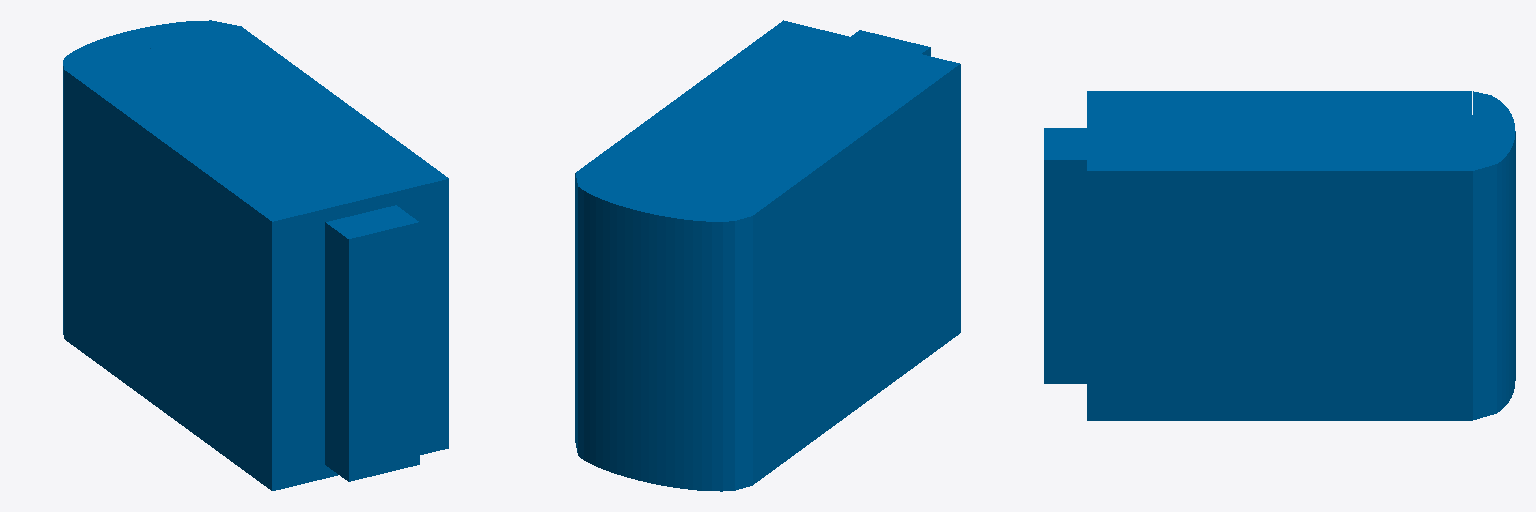
robot.urdf — 3v3_42.5.32.5.25.0_35.0.37.5.27.5_0.975.1_63:
<?xml version="1.0" ?>
<robot name="3v3_42.5.32.5.25.0_35.0.37.5.27.5_0.975.1_63">

    <link name="palm">
        <visual>
            <origin rpy="0 0 0" xyz="0 0 0"/>
            <geometry>
                <mesh filename="obj_files/palm.obj" scale="1 1 1"/>
            </geometry>
        </visual>
        <collision>
            <geometry>
                <mesh filename="obj_files/palm_collision.obj" scale="1 1 1"/>
            </geometry>
        </collision>
    </link>

    <link name="finger0_segment0">
        <visual>
            <origin rpy="0 0 0" xyz="0 0 0"/>
            <geometry>
                <mesh filename="obj_files/finger0_segment0.obj" scale="1 1 1"/>
            </geometry>
        </visual>
        <collision>
            <geometry>
                <mesh filename="obj_files/finger0_segment0_collision.obj" scale="1 1 1"/>
            </geometry>
        </collision>
    </link>

    <joint name="finger0_segment0_joint" type="revolute">
        <parent link="palm"/>
        <child link="finger0_segment0"/>
        <origin rpy="0 0 0" xyz="0.0315 0 0.0"/>
        <axis xyz="0 0 1"/>
        <limit effort="1000.0" lower="-3.14" upper="3.14" velocity="0.5"/>
    </joint>

    <link name="finger0_segment1">
        <visual>
            <origin rpy="0 0 0" xyz="0 0 0"/>
            <geometry>
                <mesh filename="obj_files/finger0_segment1.obj" scale="1 1 1"/>
            </geometry>
        </visual>
        <collision>
            <geometry>
                <mesh filename="obj_files/finger0_segment1_collision.obj" scale="1 1 1"/>
            </geometry>
        </collision>
    </link>

    <joint name="finger0_segment1_joint" type="revolute">
        <parent link="finger0_segment0"/>
        <child link="finger0_segment1"/>
        <origin rpy="0 0 0" xyz="0 0.061974683544303785 0"/>
        <axis xyz="0 0 1"/>
        <limit effort="1000.0" lower="-3.14" upper="3.14" velocity="0.5"/>
    </joint>

    <link name="finger0_segment2">
        <visual>
            <origin rpy="0 0 0" xyz="0 0 0"/>
            <geometry>
                <mesh filename="obj_files/finger0_segment2.obj" scale="1 1 1"/>
            </geometry>
        </visual>
        <collision>
            <geometry>
                <mesh filename="obj_files/finger0_segment2_collision.obj" scale="1 1 1"/>
            </geometry>
        </collision>
    </link>

    <joint name="finger0_segment2_joint" type="revolute">
        <parent link="finger0_segment1"/>
        <child link="finger0_segment2"/>
        <origin rpy="0 0 0" xyz="0 0.047392405063291135 0"/>
        <axis xyz="0 0 1"/>
        <limit effort="1000.0" lower="-3.14" upper="3.14" velocity="0.5"/>
    </joint>

    <link name="finger1_segment0">
        <visual>
            <origin rpy="0 0 0" xyz="0 0 0"/>
            <geometry>
                <mesh filename="obj_files/finger1_segment0.obj" scale="1 1 1"/>
            </geometry>
        </visual>
        <collision>
            <geometry>
                <mesh filename="obj_files/finger1_segment0_collision.obj" scale="1 1 1"/>
            </geometry>
        </collision>
    </link>

    <joint name="finger1_segment0_joint" type="revolute">
        <parent link="palm"/>
        <child link="finger1_segment0"/>
        <origin rpy="0 0 0" xyz="-0.0315 0 3.8576374173141625e-18"/>
        <axis xyz="0 0 1"/>
        <limit effort="1000.0" lower="-3.14" upper="3.14" velocity="0.5"/>
    </joint>

    <link name="finger1_segment1">
        <visual>
            <origin rpy="0 0 0" xyz="0 0 0"/>
            <geometry>
                <mesh filename="obj_files/finger1_segment1.obj" scale="1 1 1"/>
            </geometry>
        </visual>
        <collision>
            <geometry>
                <mesh filename="obj_files/finger1_segment1_collision.obj" scale="1 1 1"/>
            </geometry>
        </collision>
    </link>

    <joint name="finger1_segment1_joint" type="revolute">
        <parent link="finger1_segment0"/>
        <child link="finger1_segment1"/>
        <origin rpy="0 0 0" xyz="0 0.04976202531645569 0"/>
        <axis xyz="0 0 1"/>
        <limit effort="1000.0" lower="-3.14" upper="3.14" velocity="0.5"/>
    </joint>

    <link name="finger1_segment2">
        <visual>
            <origin rpy="0 0 0" xyz="0 0 0"/>
            <geometry>
                <mesh filename="obj_files/finger1_segment2.obj" scale="1 1 1"/>
            </geometry>
        </visual>
        <collision>
            <geometry>
                <mesh filename="obj_files/finger1_segment2_collision.obj" scale="1 1 1"/>
            </geometry>
        </collision>
    </link>

    <joint name="finger1_segment2_joint" type="revolute">
        <parent link="finger1_segment1"/>
        <child link="finger1_segment2"/>
        <origin rpy="0 0 0" xyz="0 0.053316455696202525 0"/>
        <axis xyz="0 0 1"/>
        <limit effort="1000.0" lower="-3.14" upper="3.14" velocity="0.5"/>
    </joint>

</robot>

--- Render facts (derived) ---
Views: 3 orthographic renders of the robot side by side, from view 1: azimuth 30°, elevation 25°; view 2: azimuth 150°, elevation 25°; view 3: azimuth 270°, elevation 25°.
Model 3v3_42.5.32.5.25.0_35.0.37.5.27.5_0.975.1_63 with 7 links and 6 joints (6 revolute), rooted at palm, posed all joints at 0.
Visible links, largest first — view 1: finger1_segment0; view 2: finger1_segment0; view 3: finger1_segment0.
Boxes of the visible links, x1=… form: finger1_segment0: x1=63, y1=20, x2=448, y2=490; finger1_segment0: x1=575, y1=20, x2=960, y2=491; finger1_segment0: x1=1044, y1=91, x2=1515, y2=420.
Bounding box of the posed robot: 0.022 × 0.0548 × 0.032 m (x, y, z).
Meshes: 7 distinct files referenced, 1 mesh visuals loaded (1 OBJ); not drawn: 6 (reference not matched to a file when rendering).